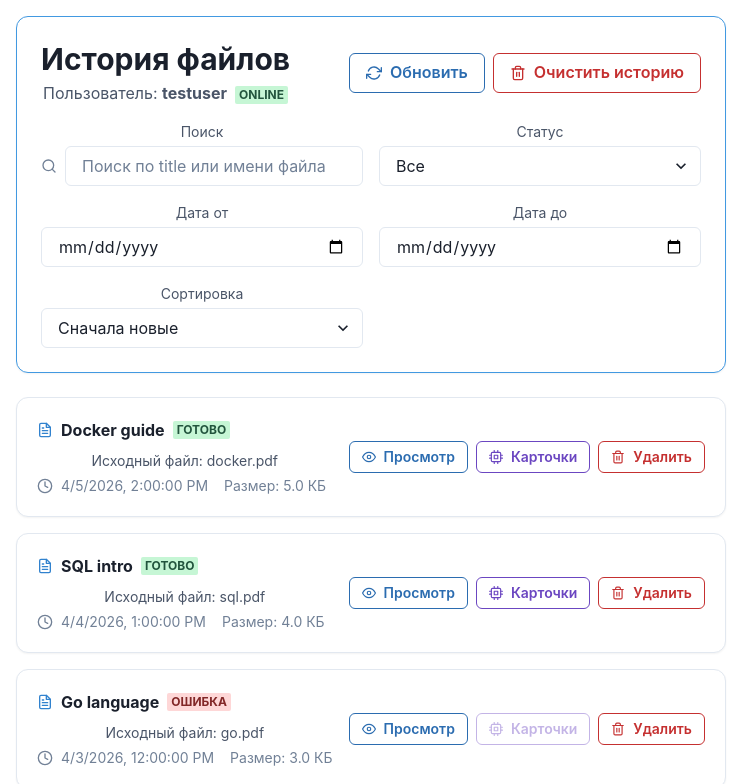
Test: Profile page › filters uploads by search query
The width and height of the screenshot is (743, 784).
Expected: the text "Docker guide" is shown, [61,418,165,442]
Type "docker" into the field with placeholder "Поиск по title или имени файла" at (214, 166), box [65,146,363,186]
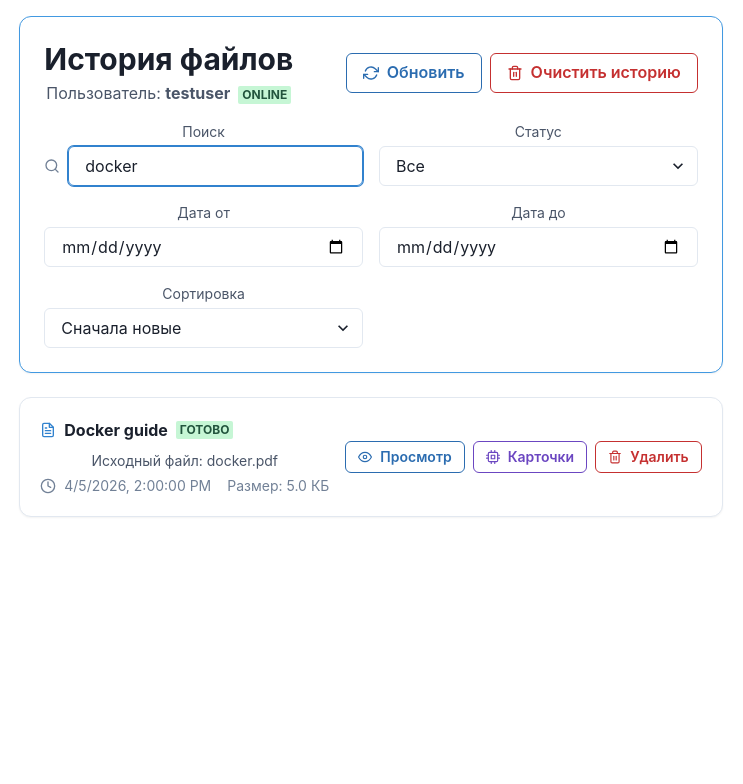
Expected: the text "Docker guide" is shown, [64,418,168,442]
Expected: the text "Go language" is gone
